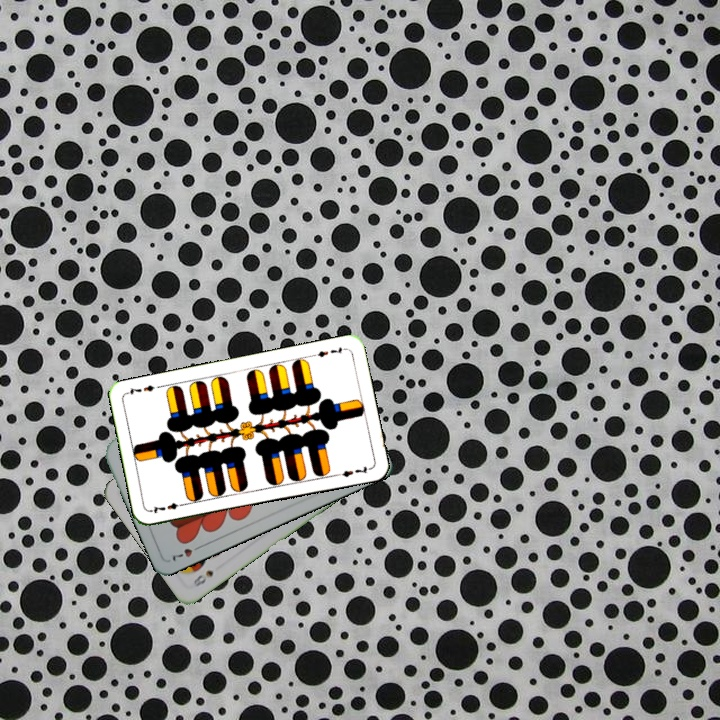E7: (147, 499, 187, 516), (308, 343, 348, 360)
H7: (168, 541, 205, 564)
S8: (189, 566, 216, 590)
